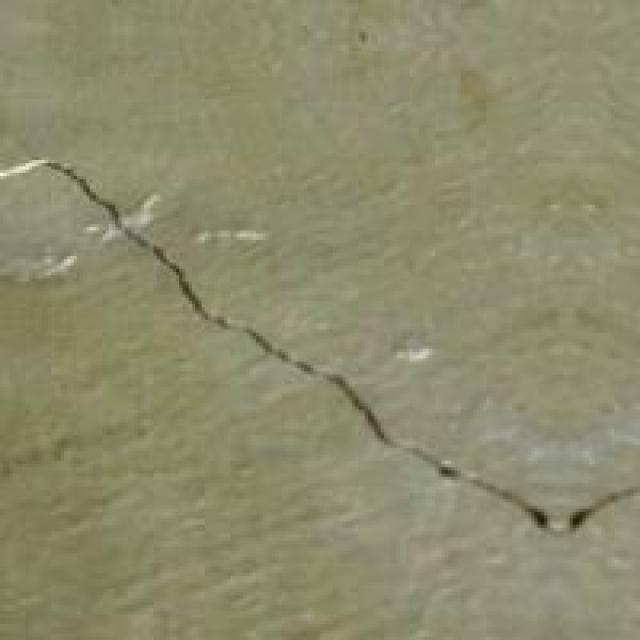crack: (0, 86, 637, 548)
